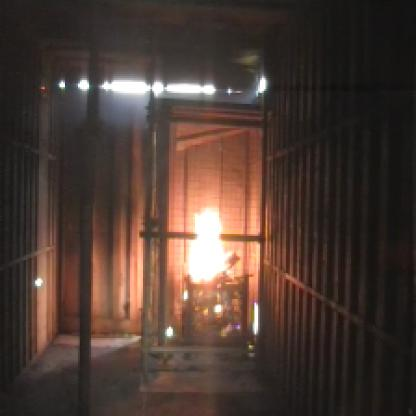Fire: (167, 178, 256, 348)
